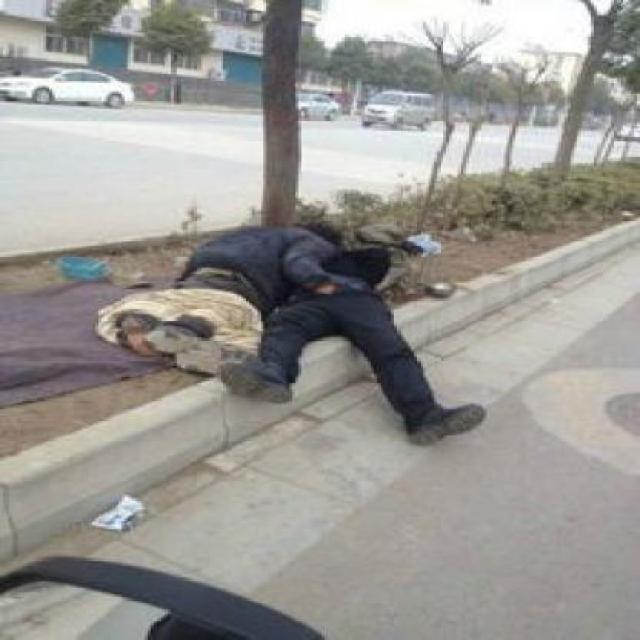fall: (90, 202, 330, 387)
